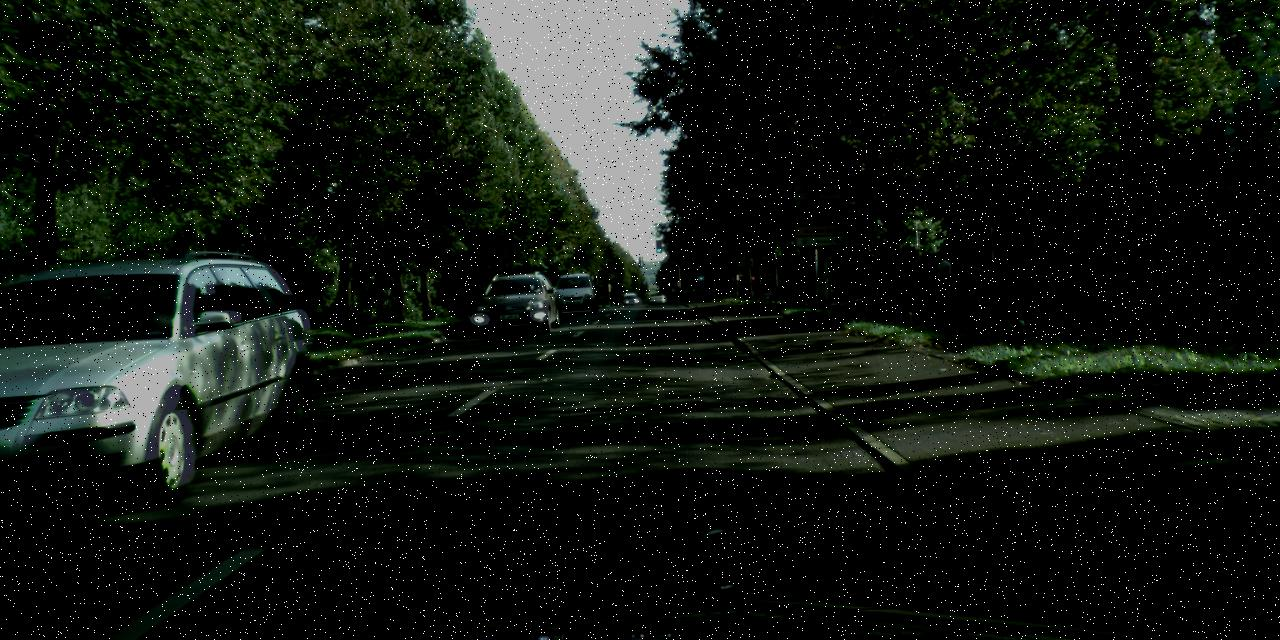ped: (934, 252, 958, 311), (959, 257, 981, 312), (982, 263, 1001, 311)
